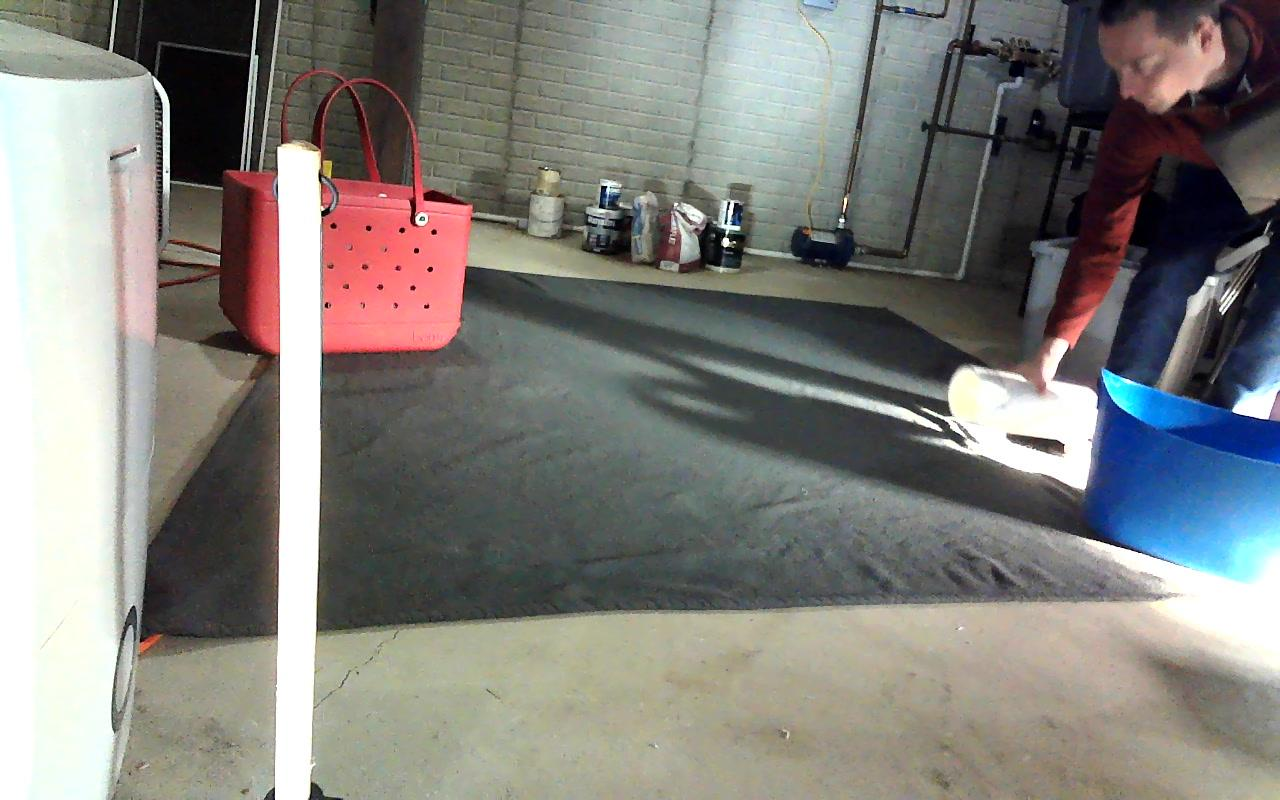coral: (950, 365, 1098, 432)
